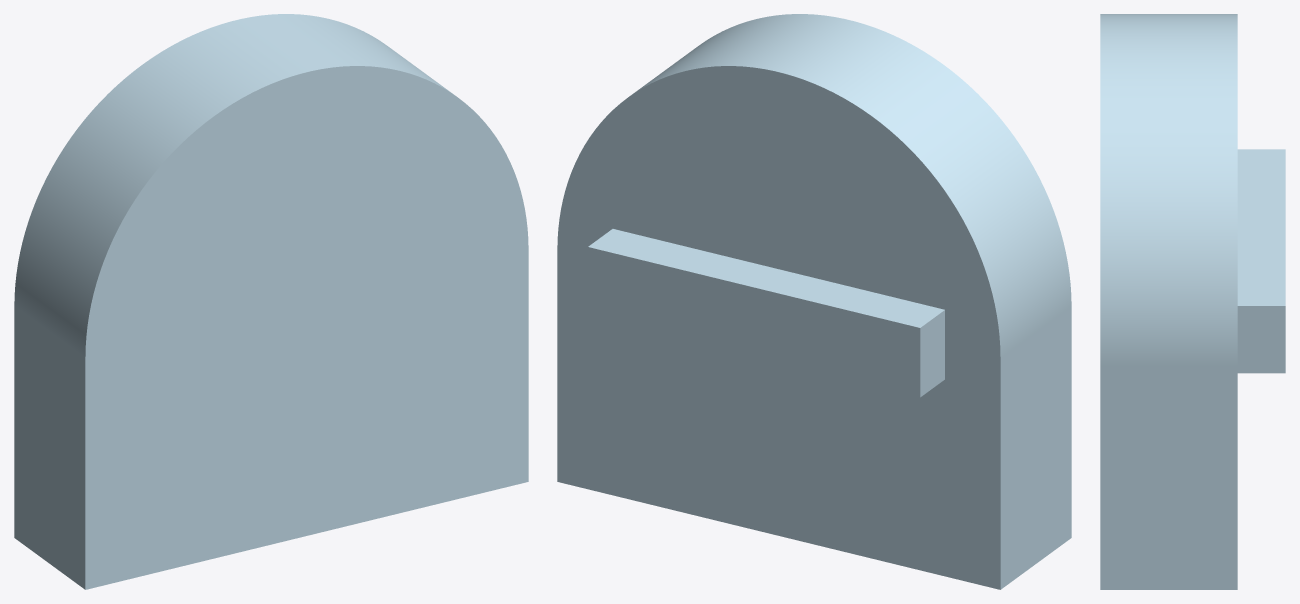
The model's file is subtractor.fbx.
3 views of the same model, side by side, from view 1: azimuth 30°, elevation 25°; view 2: azimuth 150°, elevation 25°; view 3: azimuth 270°, elevation 25° (orthographic). The views are drawn at different scales.
Parts seen in each view (by area): view 1: Part 1; view 2: Part 1; view 3: Part 1.
Part boxes in pixels (x1,y1,x2,y2): Part 1: (14,14,528,589); Part 1: (557,14,1071,589); Part 1: (1100,14,1285,589).
Size of the model in its own units: 90 by 89.99 by 33.75.
